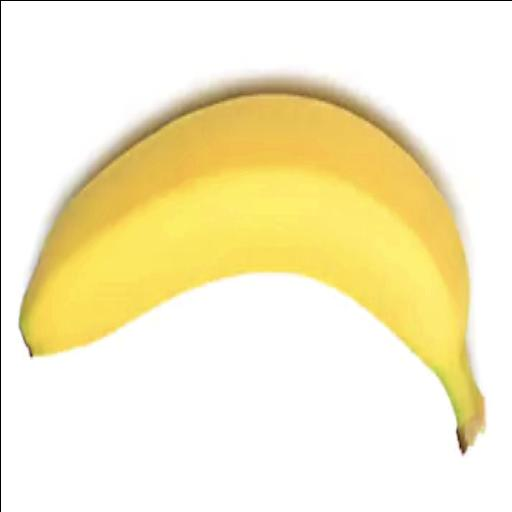banana: (21, 93, 484, 451)
